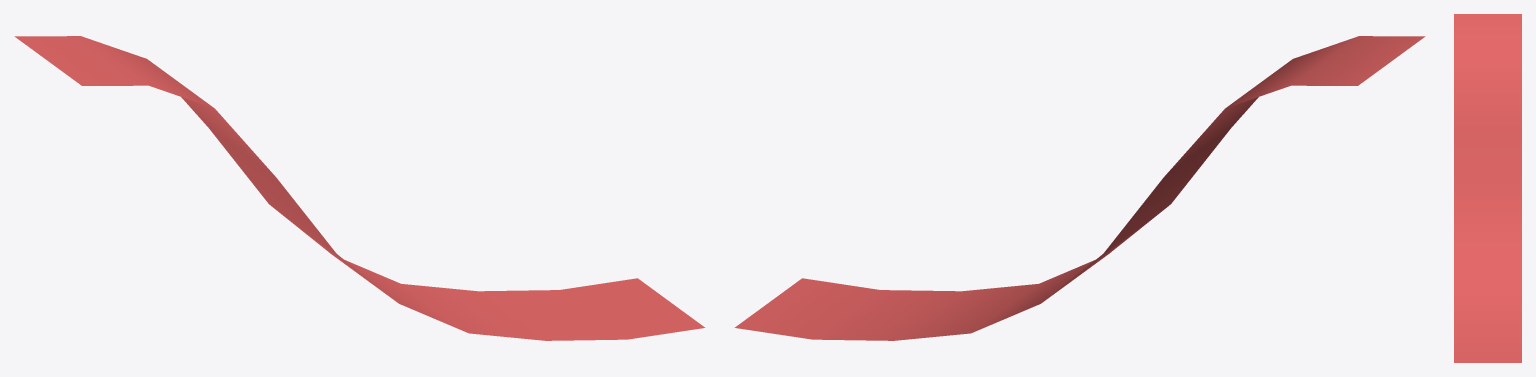
The model's file is Ramp3Color_New.fbx.
3 views of the same model, side by side, from view 1: azimuth 30°, elevation 25°; view 2: azimuth 150°, elevation 25°; view 3: azimuth 270°, elevation 25° (orthographic). The views are drawn at different scales.
Visible parts, largest first — view 1: pCube634; view 2: pCube634; view 3: pCube634.
Boxes of the visible parts, bbox=[...] form: pCube634: bbox=[14, 36, 705, 340]; pCube634: bbox=[734, 36, 1425, 340]; pCube634: bbox=[1454, 14, 1521, 362].
Size of the model in its own units: 4.97 by 3 by 0.9367.
